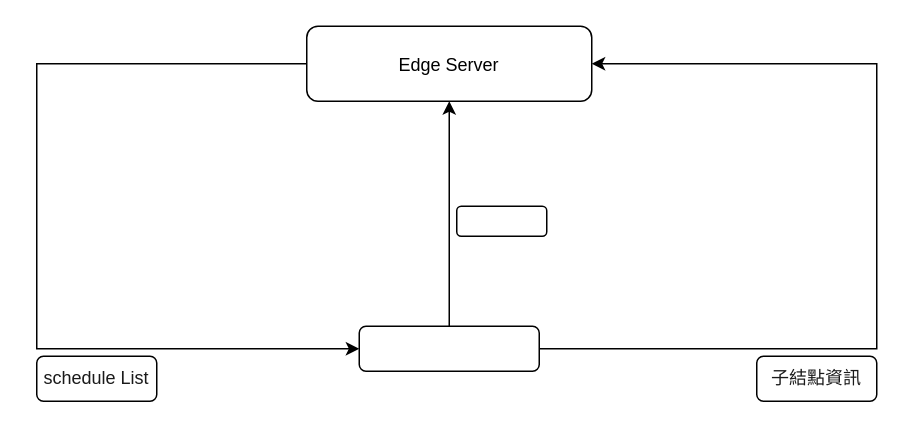
Image size: 915x428. Some labels were removed from this diagram. The centre of each missing label's shape, as x and y in pixels:
"Time" belongs at point 501,220.
"UE" belongs at point 448,348.
